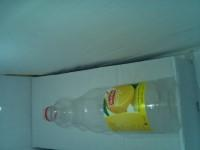bottle: (97, 0, 104, 35)
